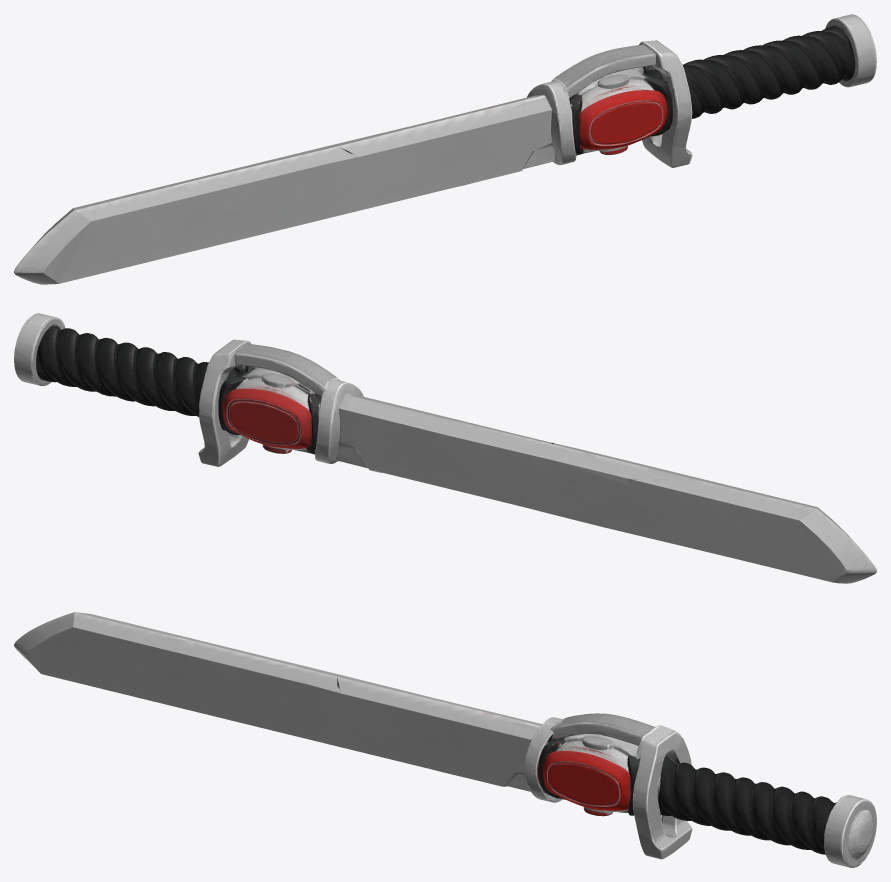
The model's file is knock.glb.
The picture shows the model from 3 angles, top to bottom: view 1: azimuth 30°, elevation 25°; view 2: azimuth 150°, elevation 25°; view 3: azimuth 330°, elevation 25°; orthographic projection.
Visible parts, largest first — view 1: output_unwrapped; view 2: output_unwrapped; view 3: output_unwrapped.
Part boxes in pixels (bbox=[...]): output_unwrapped: bbox=[14, 14, 876, 284]; output_unwrapped: bbox=[14, 313, 876, 583]; output_unwrapped: bbox=[14, 612, 876, 867].
Bounding box in the file's own units: 1.9 × 0.2482 × 0.1773.
1 material, 1 textured.
